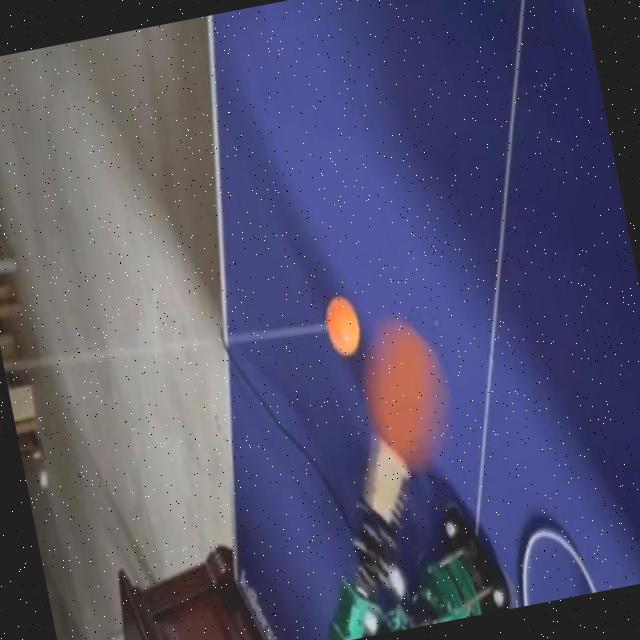ping-pong-ball: (323, 298, 363, 359)
